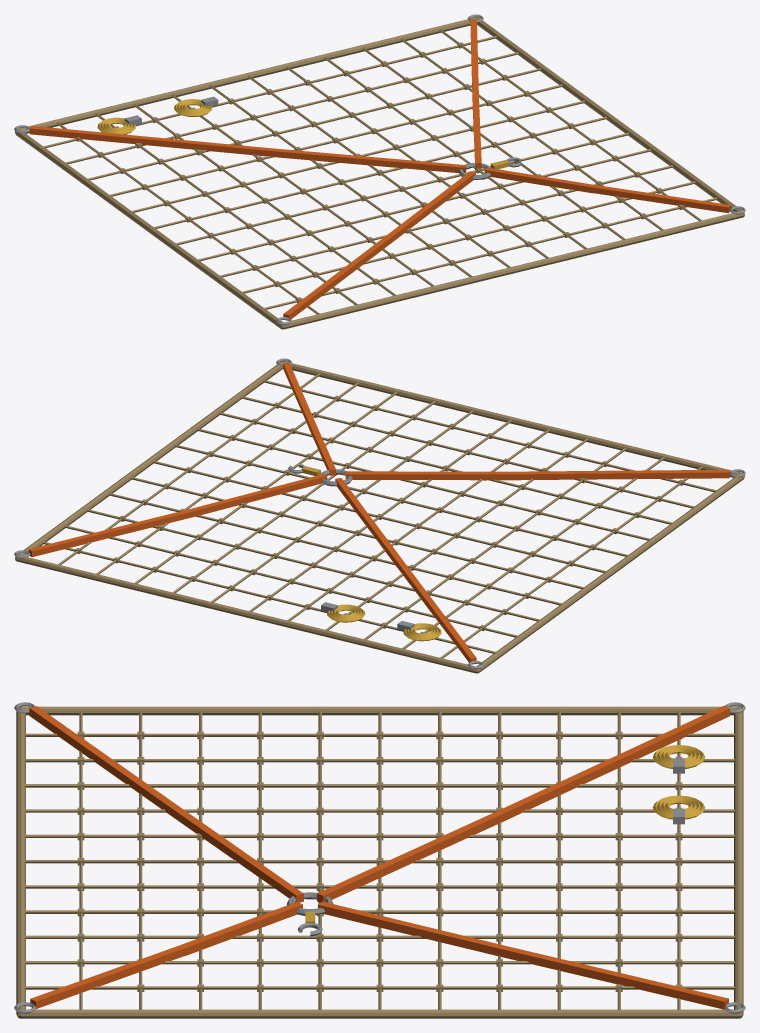
File: prop_secure_cargo_net.glb
The picture shows the model from 3 angles, top to bottom: view 1: azimuth 30°, elevation 25°; view 2: azimuth 150°, elevation 25°; view 3: azimuth 270°, elevation 25°; orthographic projection. The views are drawn at different scales.
Parts seen in each view (by area): view 1: Body; view 2: Body; view 3: Body.
Part boxes in pixels (x1,y1,x2,y2): Body: (14,14,745,329); Body: (14,358,745,673); Body: (14,702,745,1018).
Bounding box in the file's own units: 3.67 × 0.08 × 3.67.
